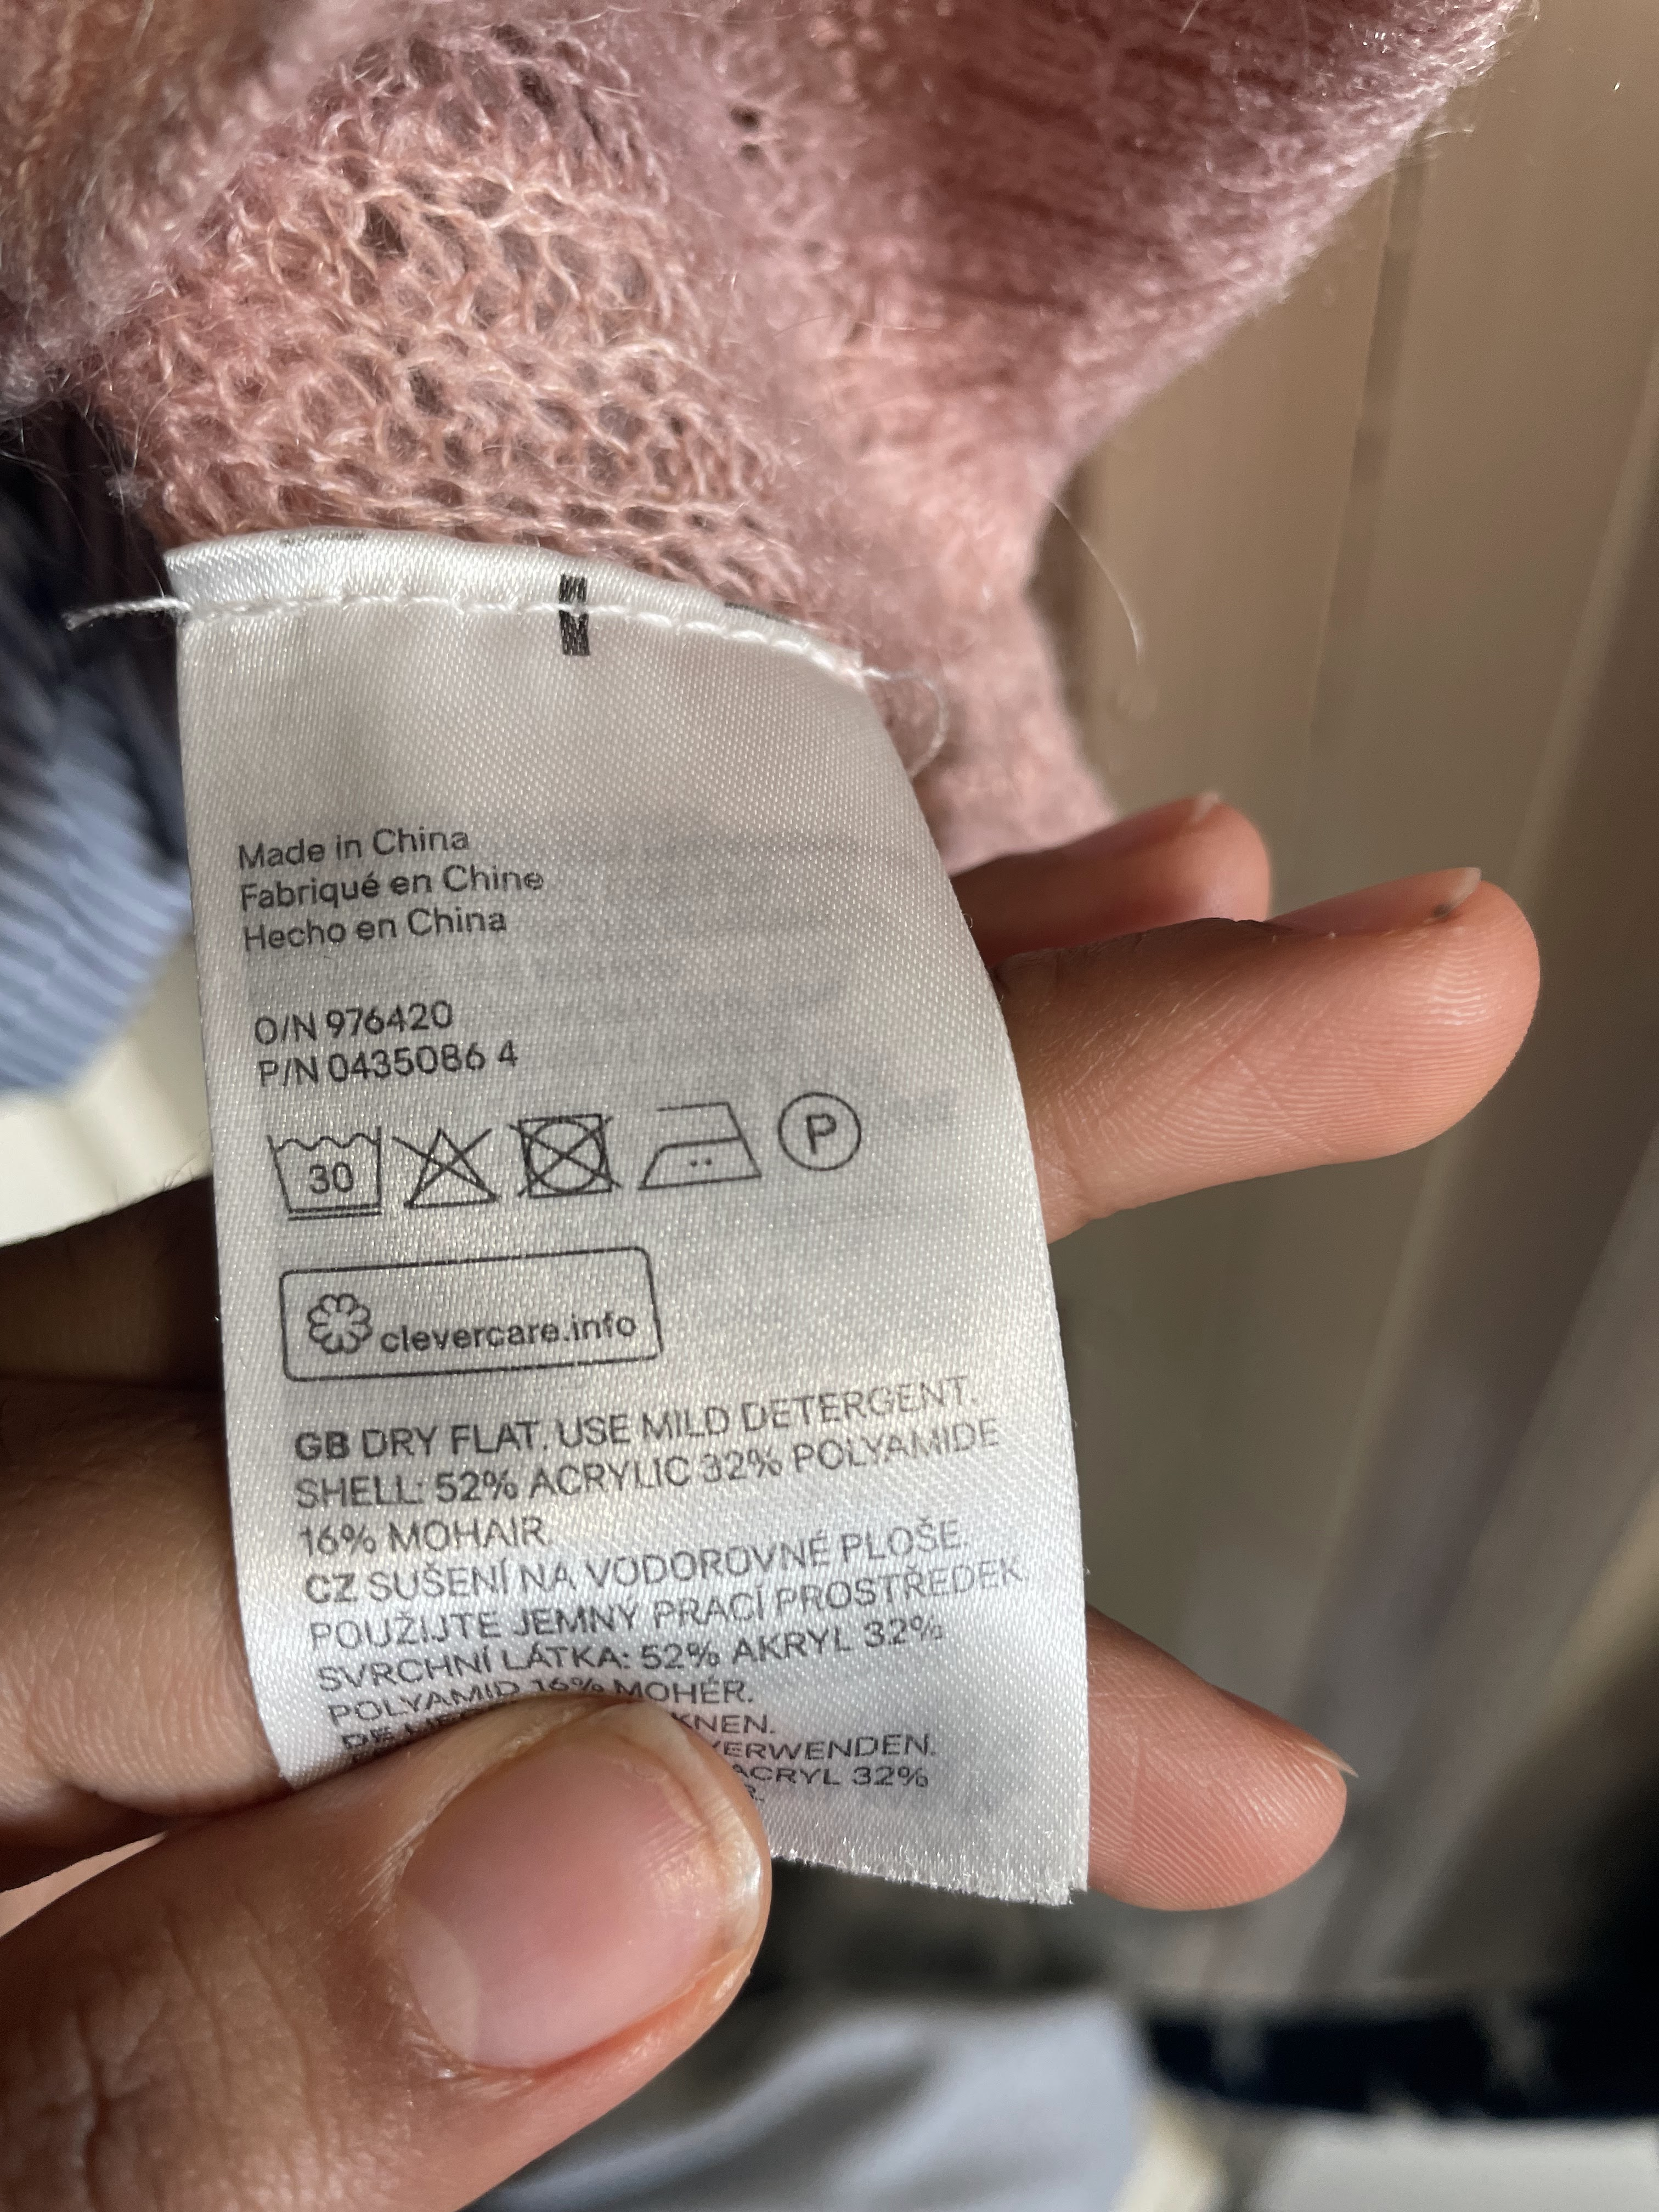do not bleach: (396, 1111, 514, 1226)
do not tumble dry: (490, 1096, 648, 1217)
dry clean: (772, 1071, 892, 1174)
iron medium temp: (620, 1071, 782, 1228)
wash at or below 30: (247, 1115, 396, 1240)
